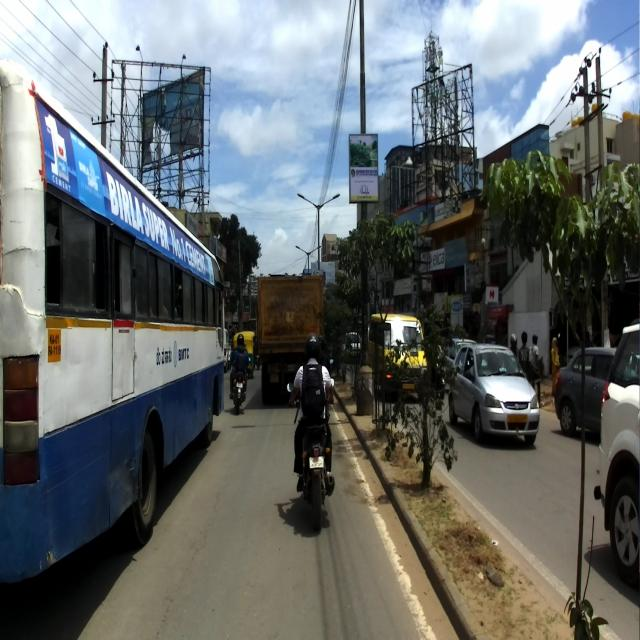Car_TATA: (446, 340, 540, 446)
bus: (0, 60, 223, 582)
motorcycle_Yamaha: (285, 377, 335, 531)
